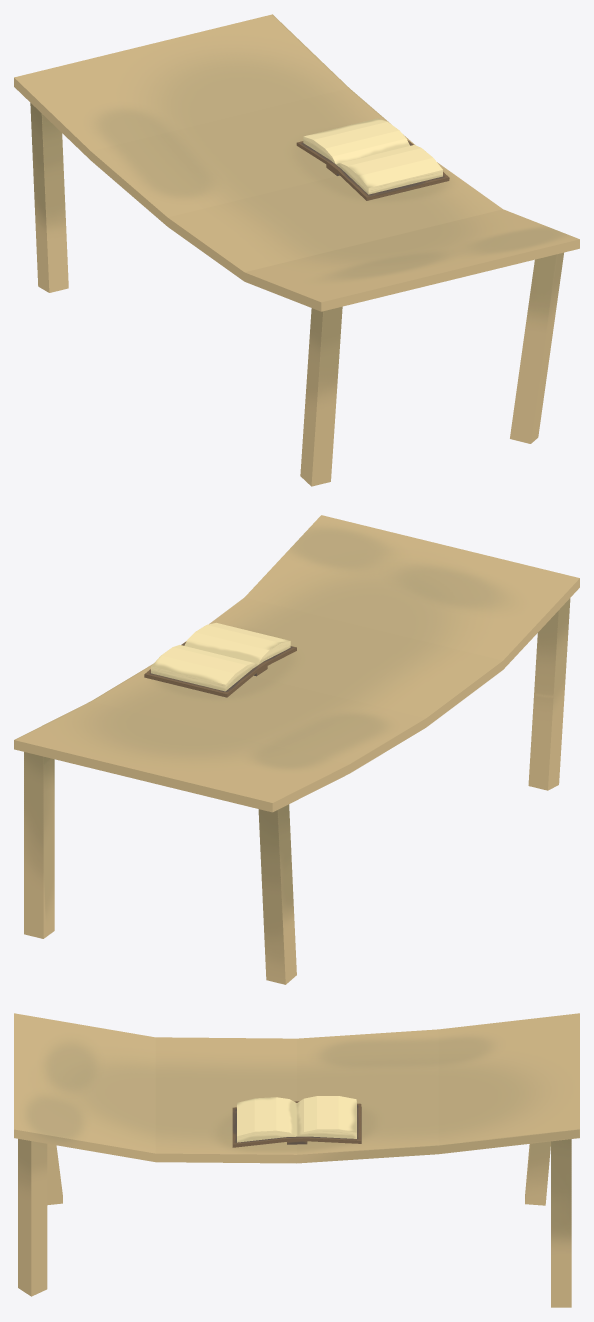
Rendered from livreETtableM4.glb.
3 renders of one model, top to bottom at view 1: azimuth 30°, elevation 25°; view 2: azimuth 150°, elevation 25°; view 3: azimuth 270°, elevation 25°, orthographic. The views are drawn at different scales.
Parts seen in each view (by area): view 1: table, Livre; view 2: table, Livre; view 3: table, Livre.
Part boxes in pixels (bbox=[...]): table: bbox=[14, 14, 579, 486]; Livre: bbox=[296, 118, 449, 200]; table: bbox=[14, 515, 579, 984]; Livre: bbox=[144, 622, 296, 697]; table: bbox=[14, 1013, 579, 1307]; Livre: bbox=[232, 1096, 361, 1147].
Bounding box in the file's own units: 2 × 1.46 × 4.12.
Materials: 2 (2 with a texture image).
